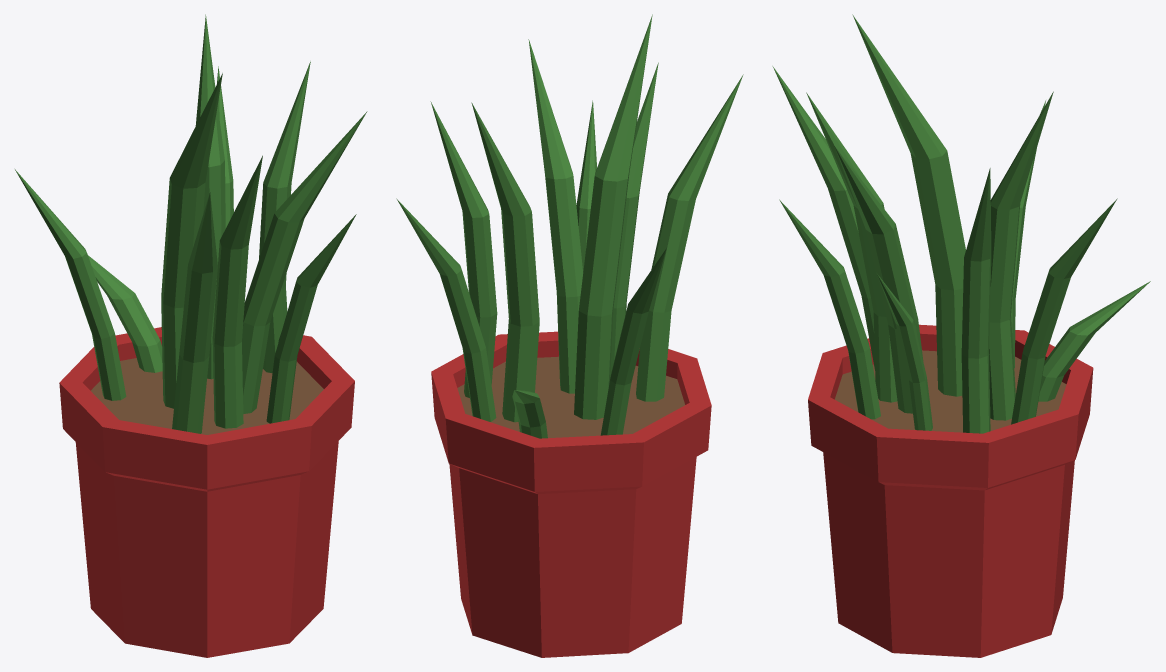
File: Flower_8.fbx
3 renders of one model, left to right at view 1: azimuth 30°, elevation 25°; view 2: azimuth 150°, elevation 25°; view 3: azimuth 270°, elevation 25°, orthographic.
Parts seen in each view (by area): view 1: Flower_8; view 2: Flower_8; view 3: Flower_8.
Boxes of the visible parts, x1,y1,x2,y2 form: Flower_8: (15, 14, 367, 657); Flower_8: (396, 14, 743, 657); Flower_8: (772, 14, 1150, 657).
Bounding box in the file's own units: 22.6 × 27.64 × 46.63.
